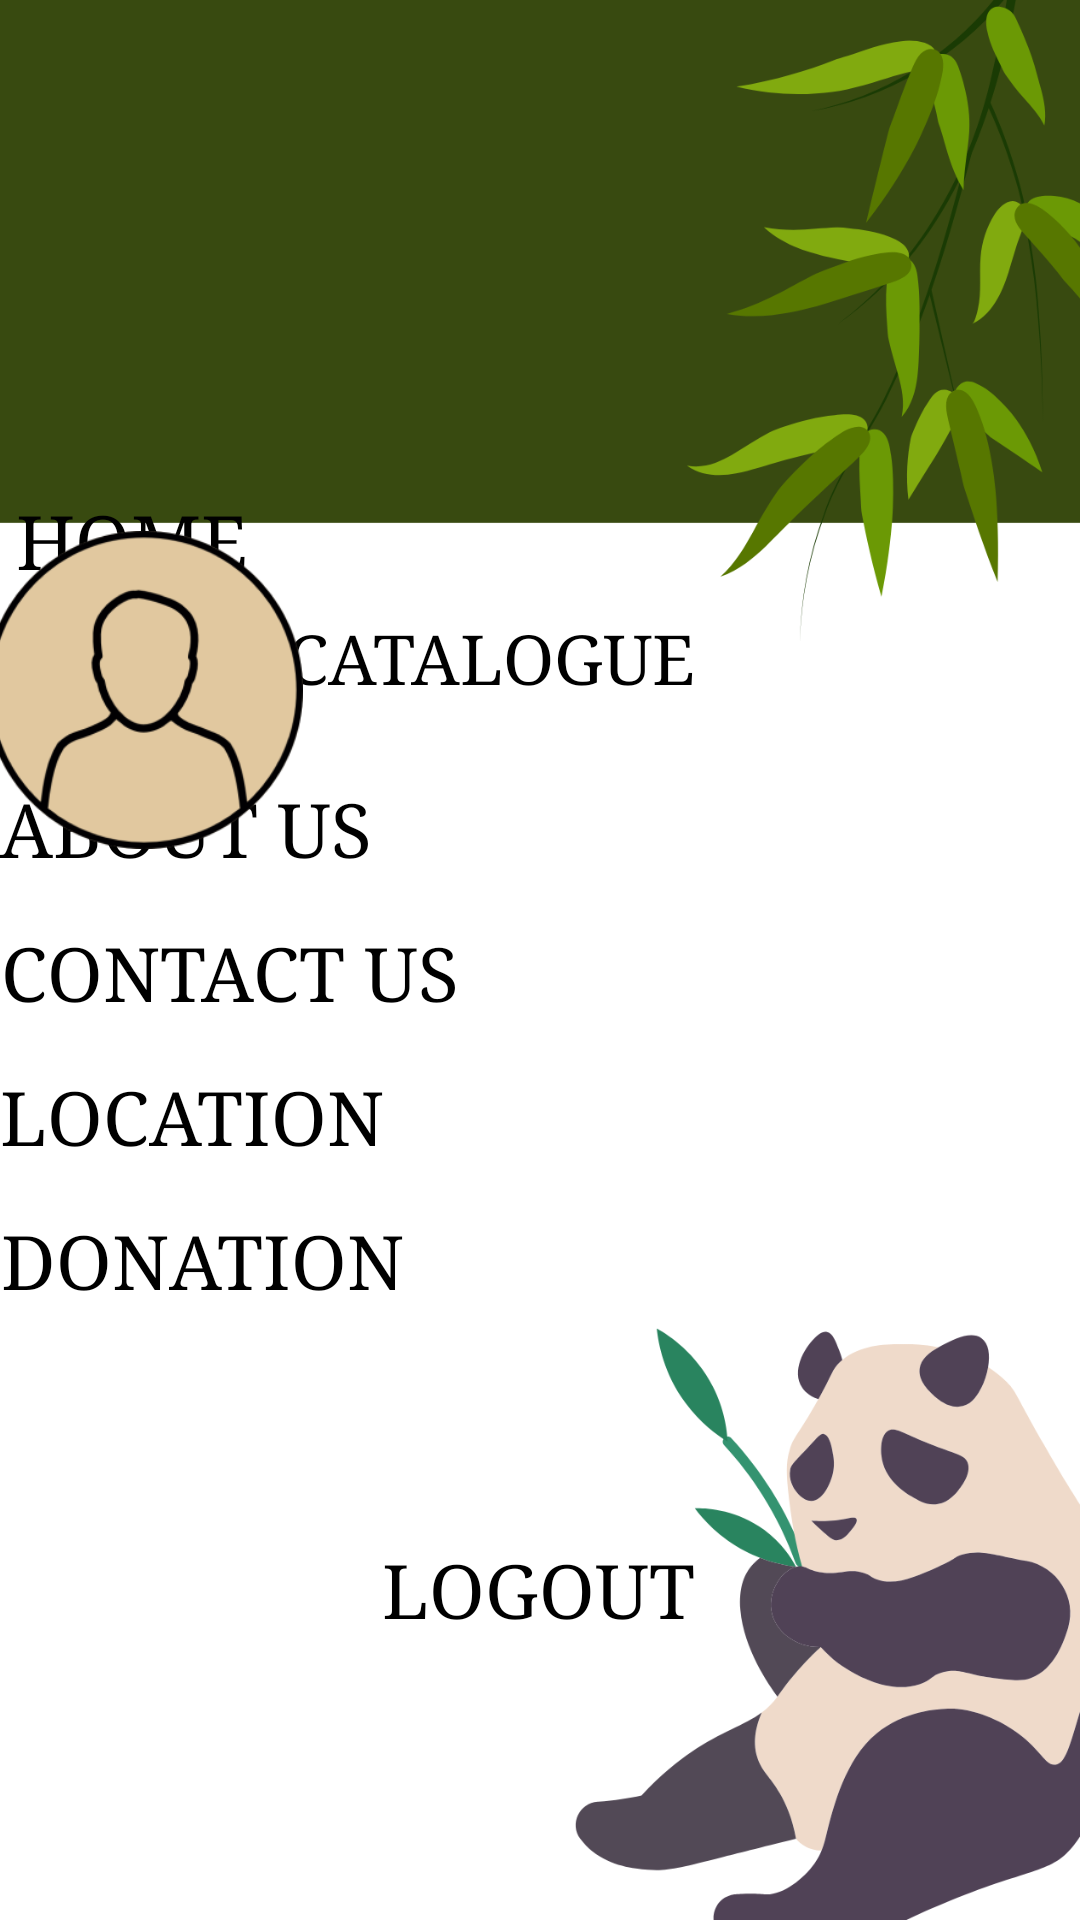

Where icons sit on this 1080 × 1920 app screen, as bbox=[x1, y1, x2, y2]:
usericon: bbox=[0, 531, 315, 849]
